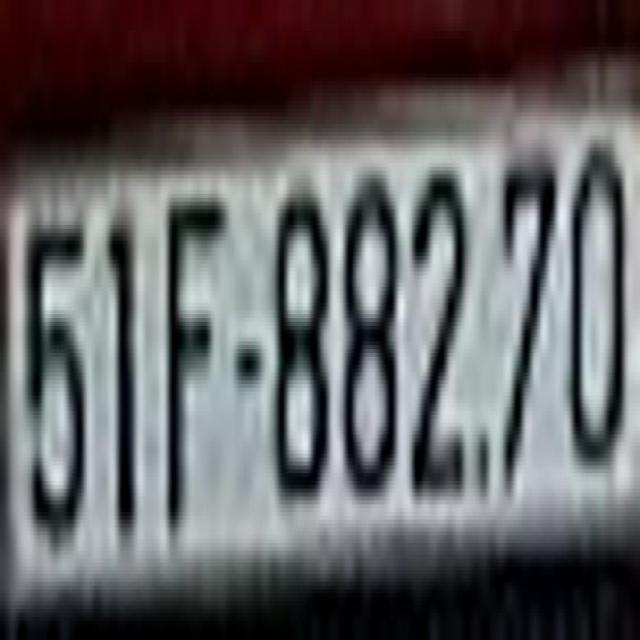0: (568, 136, 624, 462)
1: (101, 198, 137, 543)
2: (410, 170, 470, 492)
5: (20, 206, 86, 532)
7: (502, 159, 556, 493)
8: (276, 163, 328, 524), (342, 170, 396, 504)
F: (164, 183, 226, 532)
